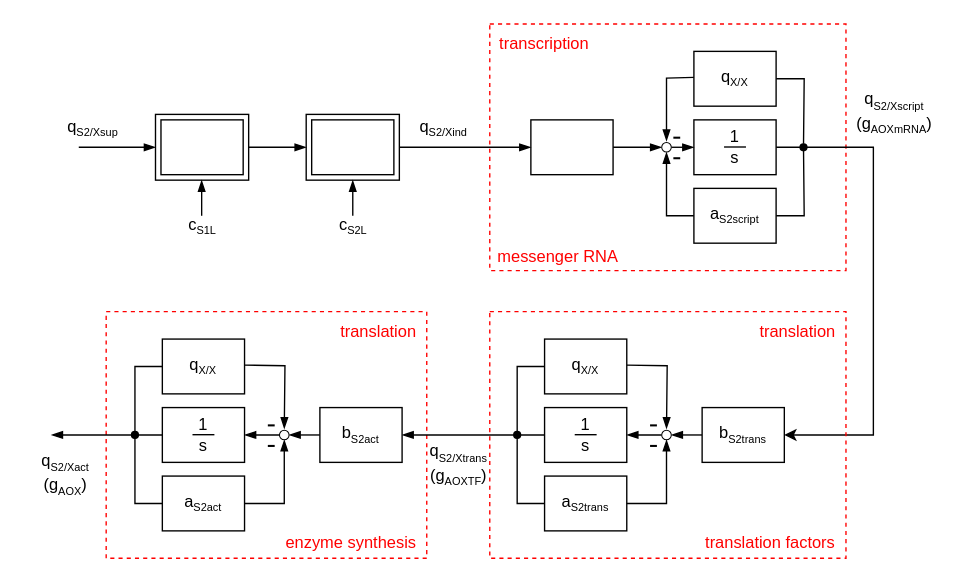
Image size: 971x588. Some labels were removed from this diagram. Here are the shapes that lost their labels. From the top down, the box of each, then its label:
(160, 119, 243, 175): V S1rep
(310, 119, 394, 175): V S2ind
(530, 119, 613, 175): b S2script
